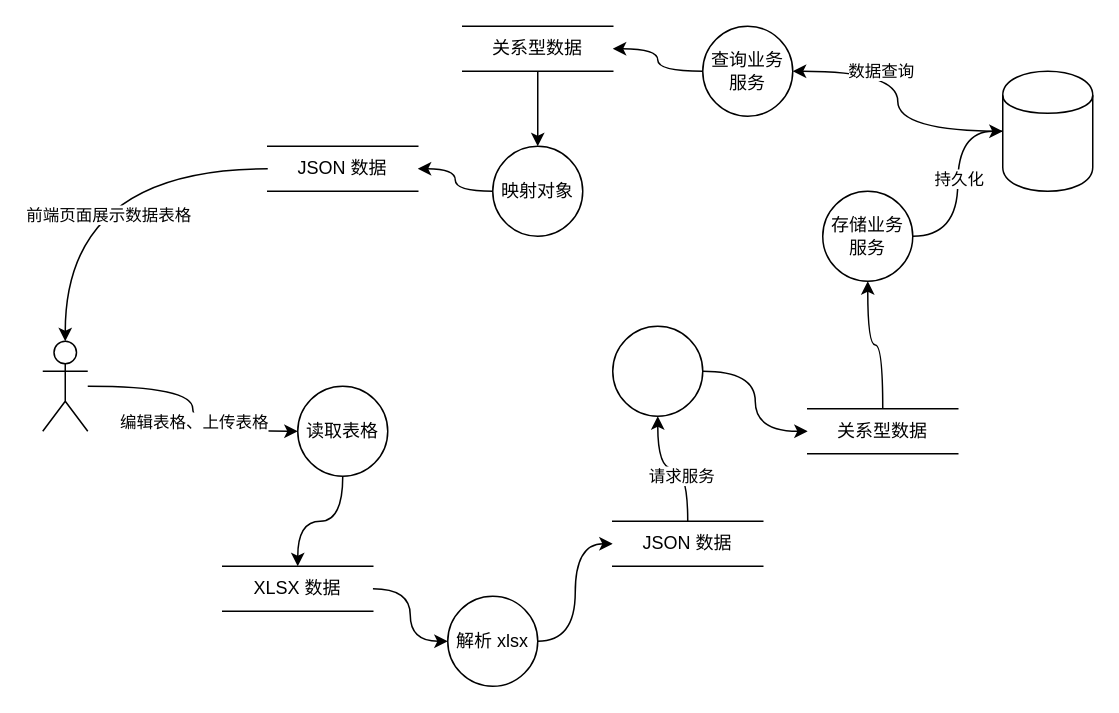
Image size: 1119x713. Some labels were removed from this diagram. The shapes that lost their labels are listed below. From the top down, each one's centre as x and y in pixels, then its label:
At point 1047,130: "DB".
At point 64,385: "用户".
At point 657,370: "处理数据关系".
